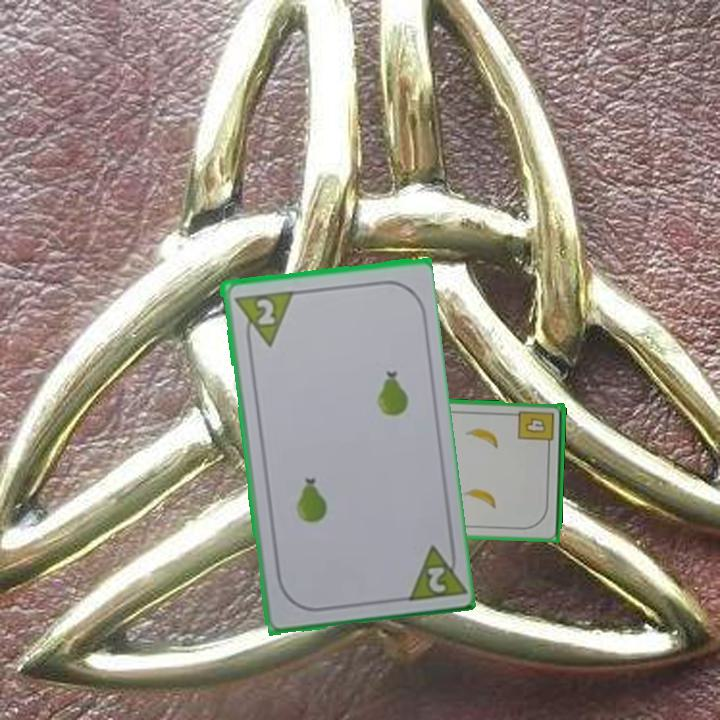2p: (400, 537, 465, 604), (230, 286, 294, 351)
4b: (515, 408, 558, 452)
